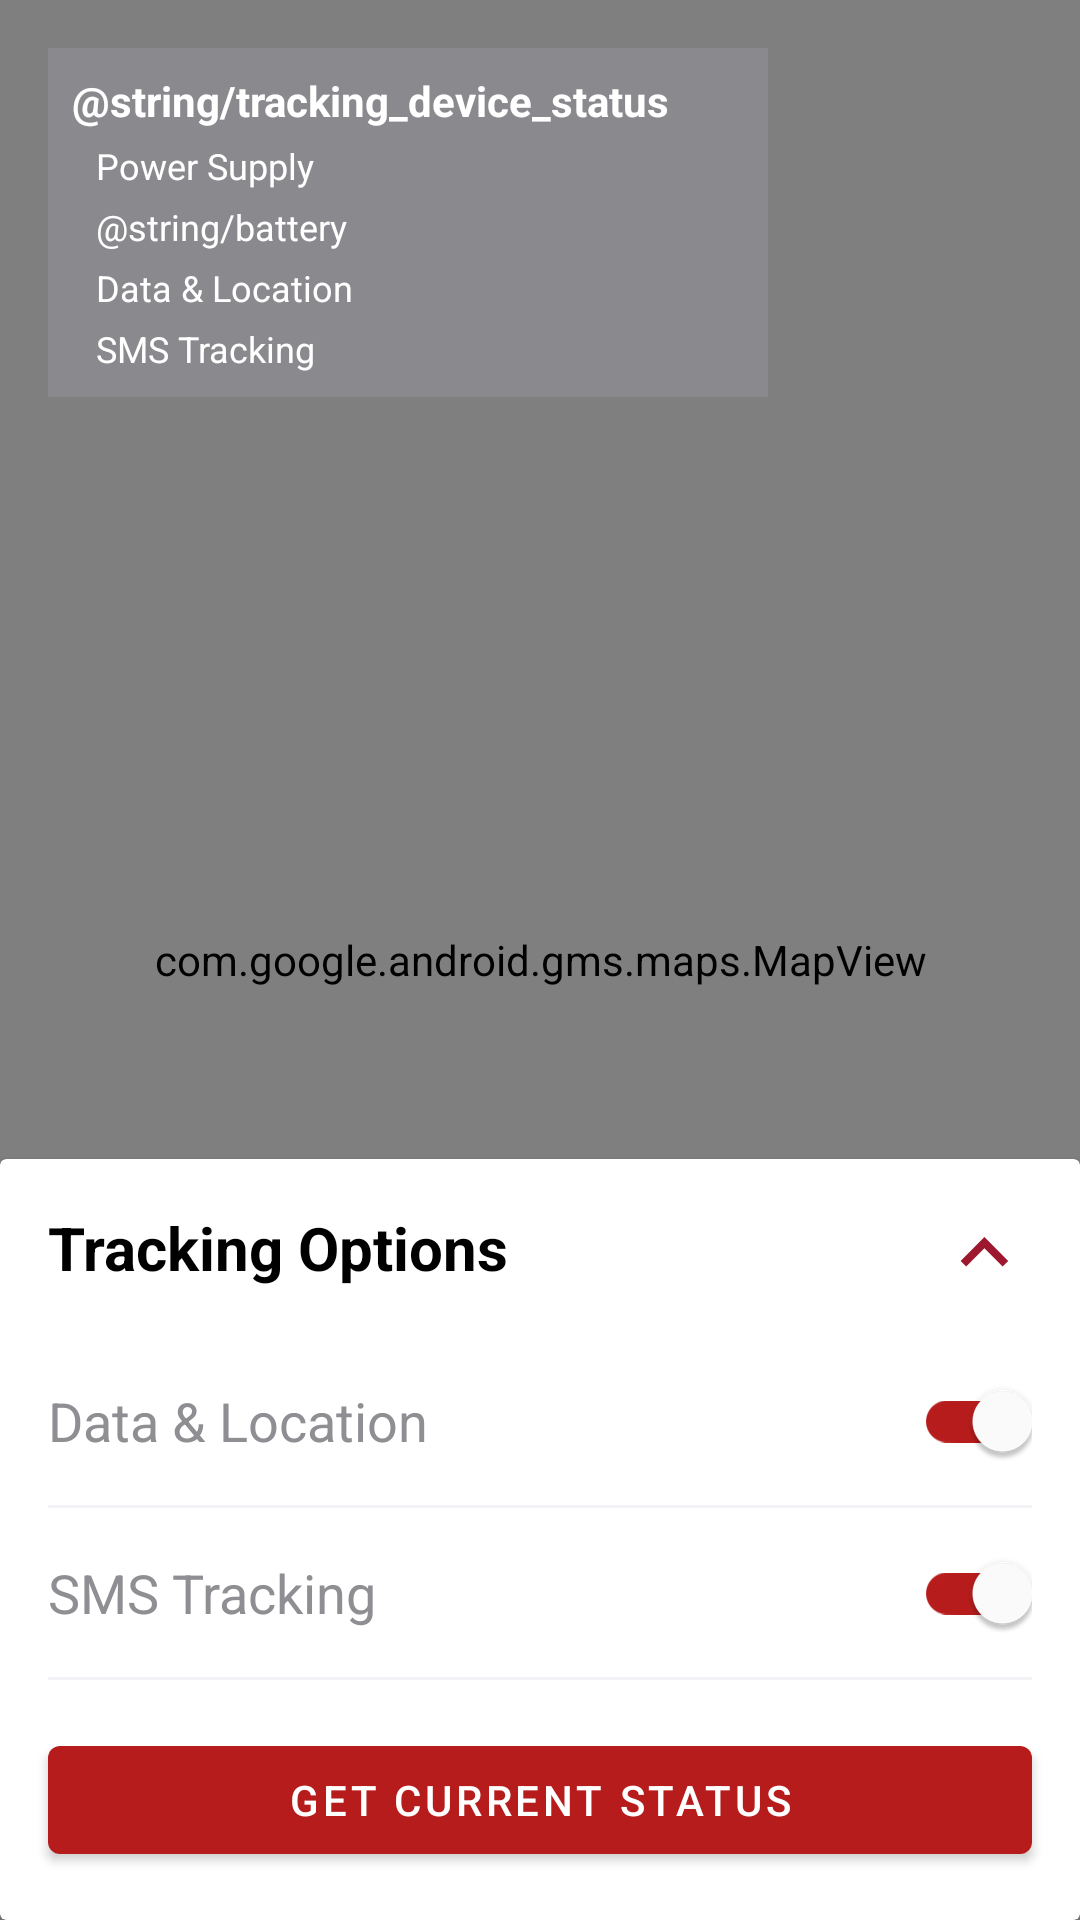

Icons on this 1080*1920 Android screen, each with the point to tap as point (x, y):
arrow expanded: point (984, 1252)
